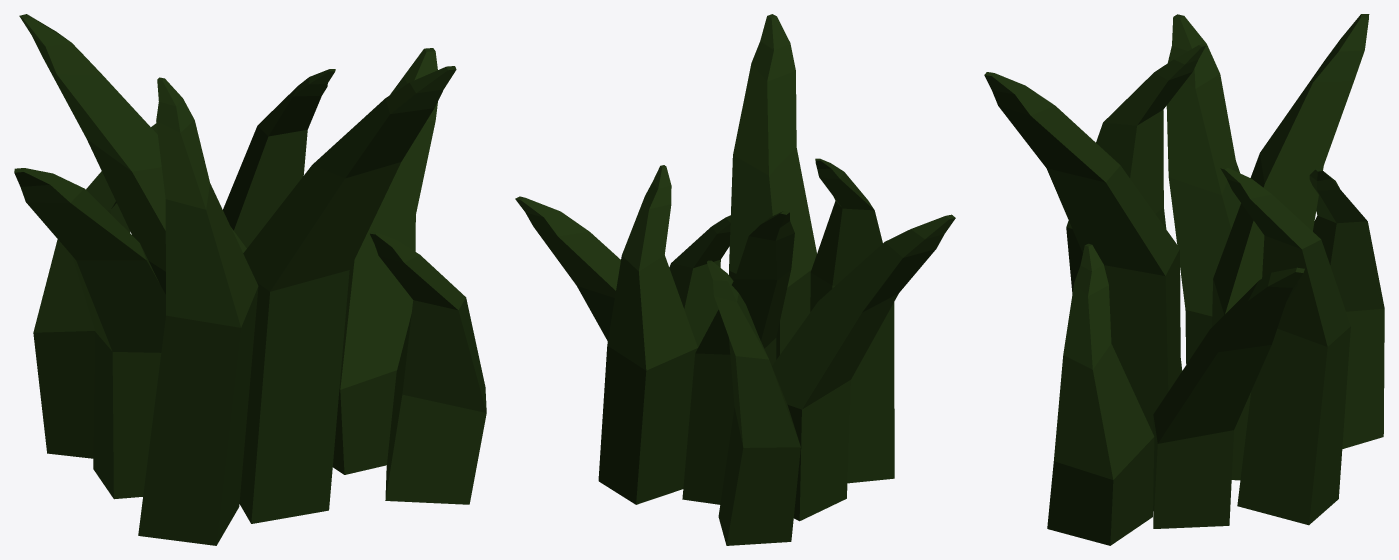
File: Grass but Grasser.fbx
3 renders of one model, left to right at view 1: azimuth 30°, elevation 25°; view 2: azimuth 150°, elevation 25°; view 3: azimuth 270°, elevation 25°, orthographic. The views are drawn at different scales.
Parts seen in each view (by area): view 1: gRAZZ; view 2: gRAZZ; view 3: gRAZZ.
Part boxes in pixels (<box>): gRAZZ: <box>14,14,486,545</box>; gRAZZ: <box>515,14,955,545</box>; gRAZZ: <box>984,14,1384,545</box>.
Size of the model in its own units: 1.47 by 1.36 by 1.14.
